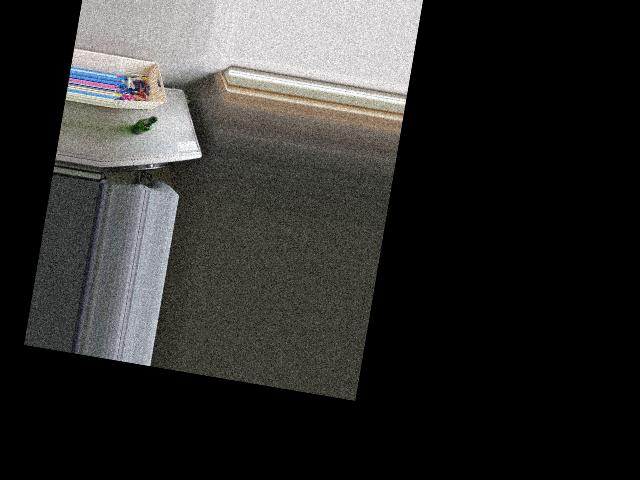beer: (130, 113, 157, 138)
